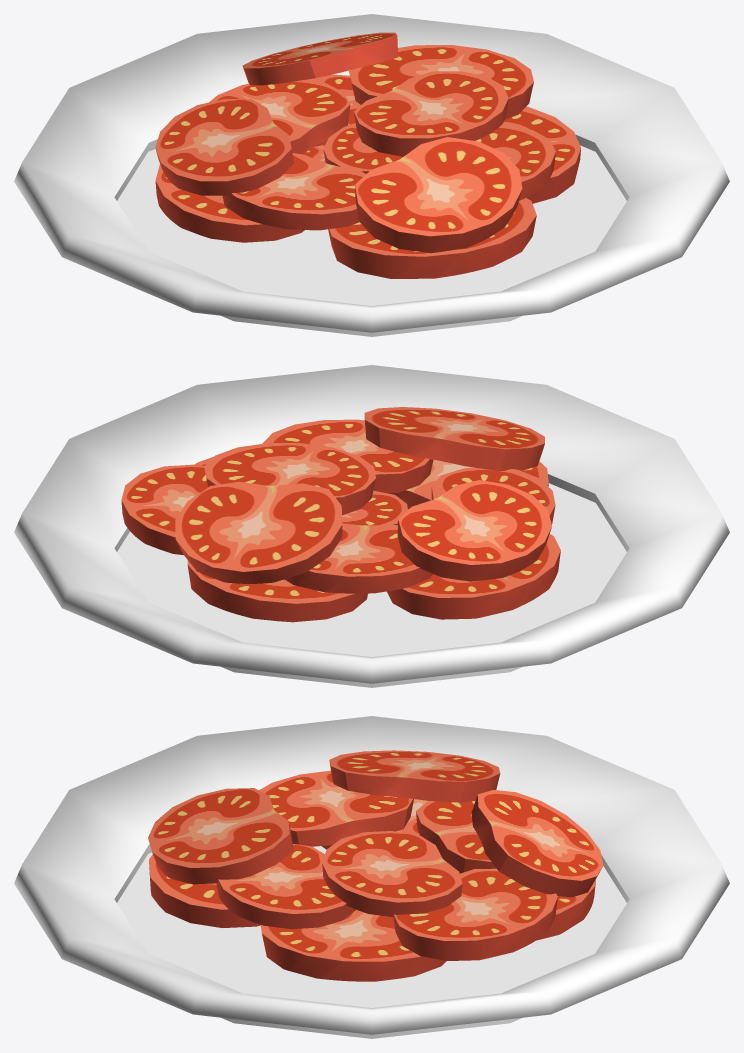
The model's file is TomatoSalad.fbx.
3 views of the same model, one above another, from view 1: azimuth 30°, elevation 25°; view 2: azimuth 150°, elevation 25°; view 3: azimuth 270°, elevation 25° (orthographic).
Visible parts, largest first — view 1: TomatoSaladPlate, TomatoSalad.013, TomatoSalad.016, TomatoSalad.015, TomatoSalad.001, TomatoSalad.006, TomatoSalad.005, TomatoSalad.007, TomatoSalad.014, TomatoSalad.002, TomatoSalad.012, TomatoSalad.004 (+2 smaller); view 2: TomatoSaladPlate, TomatoSalad.014, TomatoSalad.016, TomatoSalad.013, TomatoSalad.015, TomatoSalad.002, TomatoSalad.007, TomatoSalad.003, TomatoSalad.005, TomatoSalad.012, TomatoSalad.006, TomatoSalad.008 (+1 smaller); view 3: TomatoSaladPlate, TomatoSalad.013, TomatoSalad.005, TomatoSalad.014, TomatoSalad.015, TomatoSalad.004, TomatoSalad.016, TomatoSalad.006, TomatoSalad.012, TomatoSalad.007, TomatoSalad.001, TomatoSalad.003.
Part boxes in pixels (x1,y1,x2,y2): TomatoSaladPlate: (14, 14, 729, 336); TomatoSalad.013: (355, 137, 522, 253); TomatoSalad.016: (155, 99, 294, 195); TomatoSalad.015: (354, 71, 508, 156); TomatoSalad.001: (328, 198, 536, 278); TomatoSalad.006: (222, 153, 365, 230); TomatoSalad.005: (349, 45, 533, 119); TomatoSalad.007: (209, 79, 350, 154); TomatoSalad.014: (242, 32, 398, 85); TomatoSalad.002: (155, 164, 304, 242); TomatoSalad.012: (475, 125, 555, 200); TomatoSalad.004: (502, 106, 580, 203); TomatoSaladPlate: (14, 365, 729, 687); TomatoSalad.014: (175, 481, 342, 583); TomatoSalad.016: (397, 480, 551, 581); TomatoSalad.013: (364, 407, 544, 470); TomatoSalad.015: (204, 443, 375, 515); TomatoSalad.002: (387, 534, 560, 619); TomatoSalad.007: (285, 523, 432, 593); TomatoSalad.003: (187, 560, 367, 622); TomatoSalad.005: (121, 464, 208, 555); TomatoSalad.012: (262, 419, 433, 492); TomatoSalad.006: (431, 467, 555, 524); TomatoSalad.008: (342, 490, 407, 525); TomatoSaladPlate: (14, 716, 729, 1038); TomatoSalad.013: (148, 788, 293, 884); TomatoSalad.005: (393, 868, 557, 960); TomatoSalad.014: (471, 790, 603, 897); TomatoSalad.015: (322, 831, 462, 917); TomatoSalad.004: (260, 909, 446, 981); TomatoSalad.016: (329, 750, 500, 802); TomatoSalad.006: (259, 770, 413, 846); TomatoSalad.012: (216, 844, 355, 929); TomatoSalad.007: (416, 801, 496, 873); TomatoSalad.001: (149, 854, 260, 927); TomatoSalad.003: (536, 880, 595, 940).
Size of the model in its own units: 0.6132 by 0.1165 by 0.6132.
Materials: 3 (3 with a texture image).
